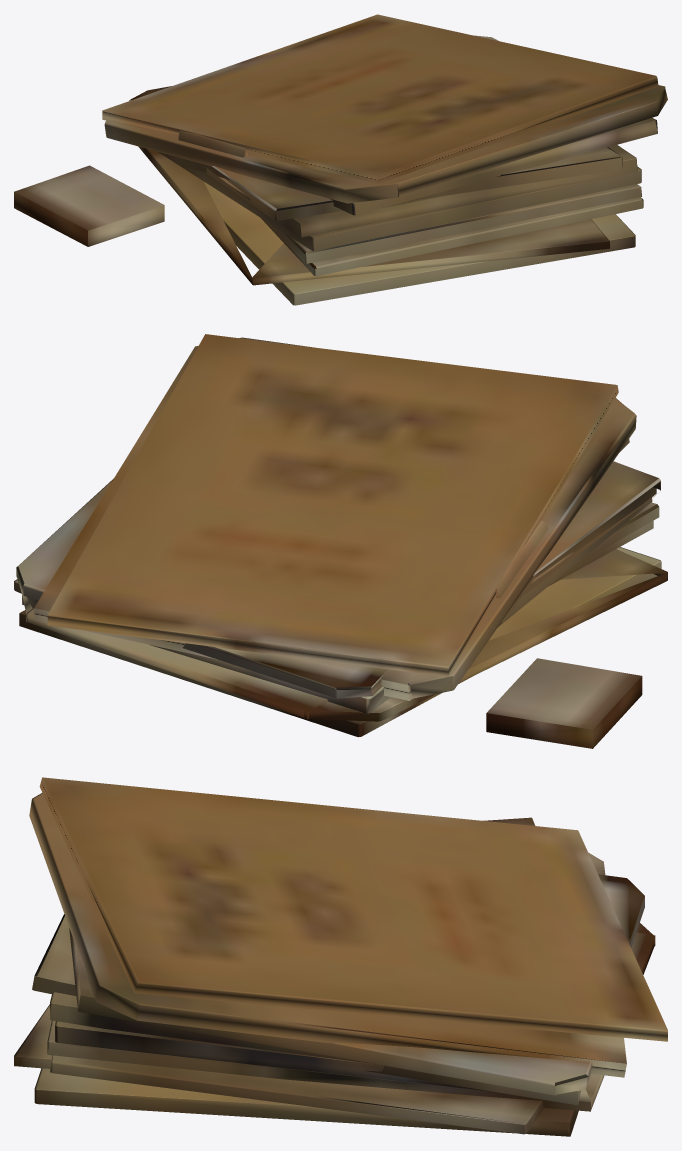
Rendered from OparetionRoom_AI_Prop.031.fbx.
3 renders of one model, top to bottom at view 1: azimuth 30°, elevation 25°; view 2: azimuth 150°, elevation 25°; view 3: azimuth 270°, elevation 25°, orthographic. The views are drawn at different scales.
Visible parts, largest first — view 1: OparetionRoom_AI_Prop.031; view 2: OparetionRoom_AI_Prop.031; view 3: OparetionRoom_AI_Prop.031.
Part boxes in pixels (<box>): OparetionRoom_AI_Prop.031: <box>14,14,667,305</box>; OparetionRoom_AI_Prop.031: <box>14,334,667,748</box>; OparetionRoom_AI_Prop.031: <box>14,777,667,1136</box>.
Size of the model in its own units: 73.3 by 18.33 by 64.9.
